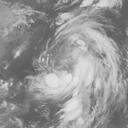cyclone: (28, 11, 118, 101)
